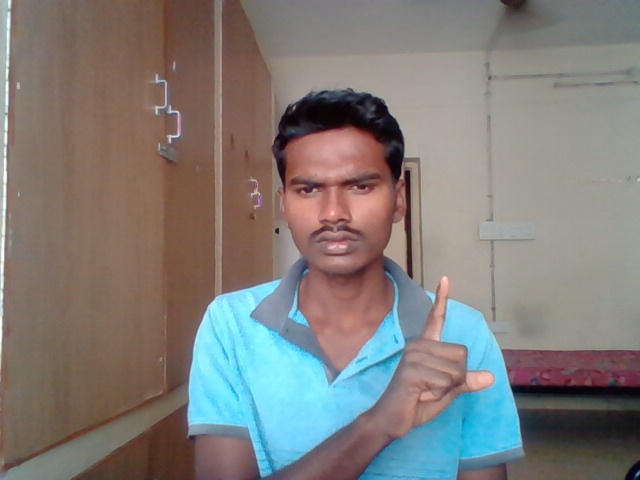No: (384, 274, 497, 438)
